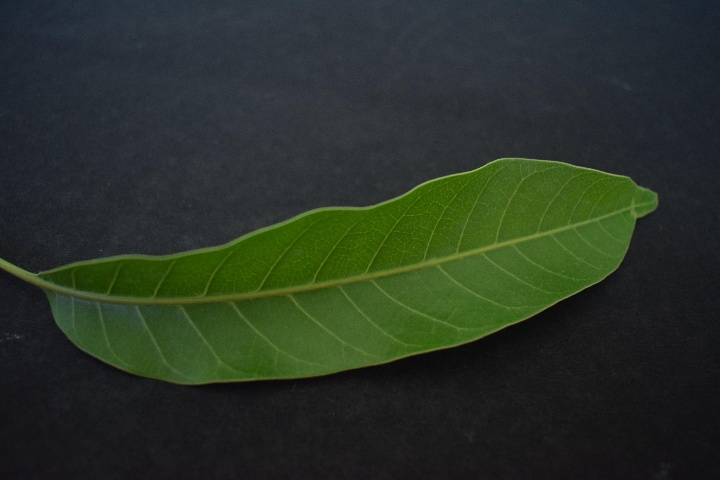healthy: (36, 158, 664, 382)
